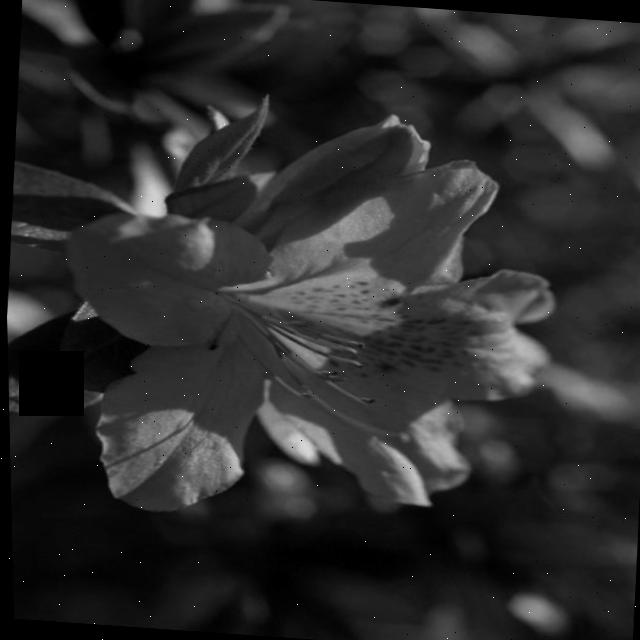azalea: (13, 111, 572, 546)
